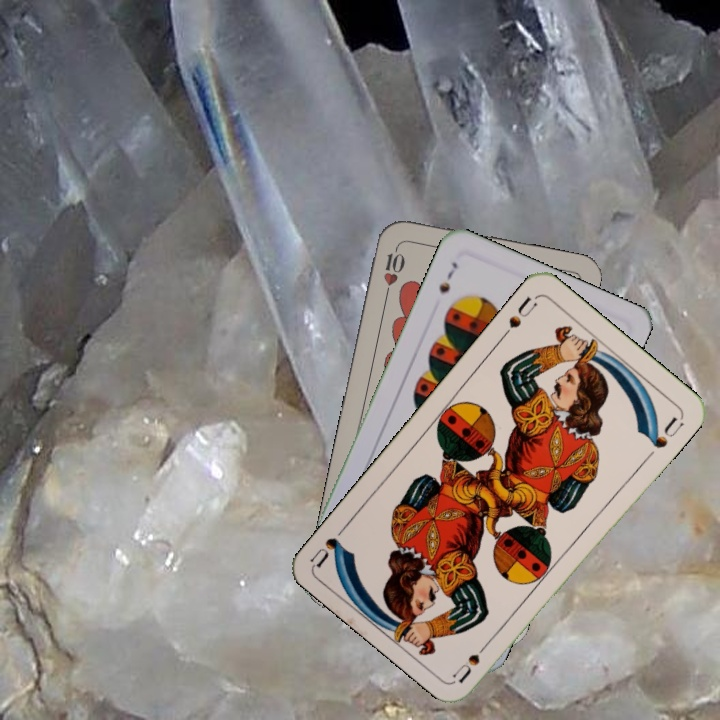H10: (379, 241, 407, 299)
S7: (434, 257, 460, 296)
SU: (449, 633, 496, 685), (497, 292, 540, 342)
